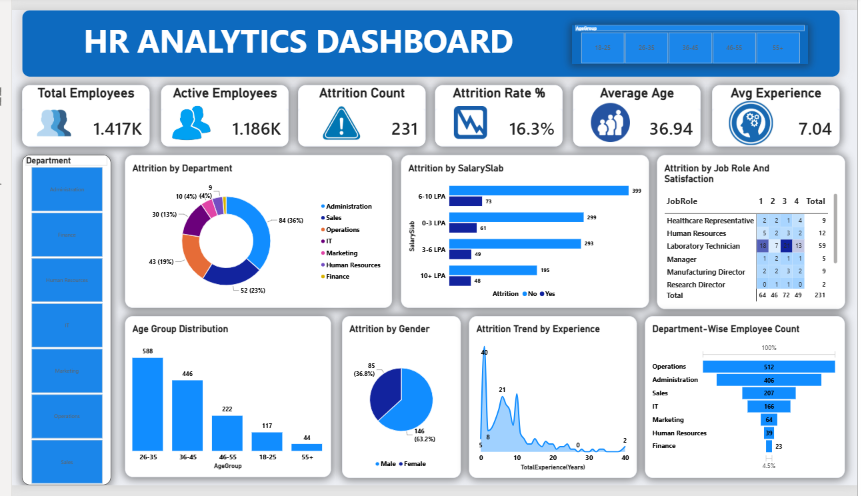

The page's visual inventory and layout, read from the dashboard file:
{"tool":"powerbi","page":{"name":"Page 1","canvas":[1920,1080],"ordinal":0},"visuals":[{"type":"textbox","box":[22.7,0,1857.9,152.2],"z":0},{"type":"cardVisual","title":"Total Employees","fields":{"Data":["CountNonNull(HR_Analytics-4.EmpID)"]},"box":[22.7,170.3,290,140],"z":1000},{"type":"cardVisual","title":"Active Employees","fields":{"Data":["CountNonNull(HR_Analytics-4.EmployeeCount)"]},"box":[338.4,170.3,290,140],"z":2000},{"type":"cardVisual","title":"Attrition Count","fields":{"Data":["Sum(HR_Analytics-4.AttritionCount)"]},"box":[649.6,170.3,290,140],"z":3000},{"type":"cardVisual","title":"Attrition Rate %","fields":{"Data":["HR_Analytics-4.Attrition Rate %"]},"box":[960.8,170.3,290,140],"z":4000},{"type":"cardVisual","title":"Average Age","fields":{"Data":["Avg(HR_Analytics-4.Age)"]},"box":[1274.2,170.3,290,140],"z":5000},{"type":"cardVisual","title":"Avg Experience","fields":{"Data":["Avg(HR_Analytics-4.YearsatCompany)"]},"box":[1589.9,170.3,290,140],"z":6000},{"type":"image","box":[22.7,218,145.4,77.2],"z":7000},{"type":"image","box":[1274.2,211.2,170.3,88.6],"z":8000},{"type":"image","box":[1549,206.7,258.9,99.9],"z":9000},{"type":"image","box":[670,206.7,156.7,99.9],"z":10000},{"type":"image","box":[951.7,218,179.4,75],"z":11000},{"type":"image","box":[293,213.5,231.7,84],"z":12000},{"type":"donutChart","title":"Attrition by Department","fields":{"Category":["HR_Analytics-4.Department"],"Y":["Sum(HR_Analytics-4.AttritionCount)"]},"box":[256.7,329.3,606.4,347.5],"z":13000},{"type":"clusteredBarChart","title":"Attrition by SalarySlab","fields":{"Category":["HR_Analytics-4.SalarySlab"],"Series":["HR_Analytics-4.Attrition"],"Y":["CountNonNull(HR_Analytics-4.EmpID)"]},"box":[883,329.3,563.3,347.5],"z":14000},{"type":"pivotTable","title":"Attrition by Job Role And Satisfaction","fields":{"Columns":["HR_Analytics-4.JobSatisfaction"],"Rows":["HR_Analytics-4.JobRole"],"Values":["Sum(HR_Analytics-4.AttritionCount)"]},"box":[1465,329.3,427,349.8],"z":15000},{"type":"columnChart","title":"Age Group Distribution","fields":{"Category":["HR_Analytics-4.AgeGroup"],"Y":["Sum(HR_Analytics-4.EmployeeCount)"]},"box":[256.7,695,467.9,365.7],"z":15001},{"type":"pieChart","title":"Attrition by Gender","fields":{"Category":["HR_Analytics-4.Gender"],"Y":["Sum(HR_Analytics-4.AttritionCount)"]},"box":[749.5,695,270.3,368],"z":15002},{"type":"areaChart","title":"Attrition Trend by Experience","fields":{"Category":["HR_Analytics-4.TotalExperience(Years)"],"Y2":["Sum(HR_Analytics-4.AttritionCount)"]},"box":[1038,695,381.6,368],"z":15003},{"type":"funnel","title":"Department-Wise Employee Count","fields":{"Category":["HR_Analytics-4.Department"],"Y":["CountNonNull(HR_Analytics-4.EmpID)"]},"box":[1437.7,695,454,368],"z":15004},{"type":"slicer","fields":{"Values":["HR_Analytics-4.Department"]},"box":[22.7,329.3,202.1,749.5],"z":15005},{"type":"slicer","fields":{"Values":["HR_Analytics-4.AgeGroup"]},"box":[1271.9,34.1,536,88.6],"z":15006}]}

Visuals, with their boxes in screenshot pixels (x1, y1, x2, y2), scaled from the page's 1920x1080 canvas onto the 861x496 screenshot:
textbox: detection(10, 0, 843, 70)
"Total Employees" cardVisual: detection(10, 78, 140, 143)
"Active Employees" cardVisual: detection(152, 78, 282, 143)
"Attrition Count" cardVisual: detection(291, 78, 421, 143)
"Attrition Rate %" cardVisual: detection(431, 78, 561, 143)
"Average Age" cardVisual: detection(571, 78, 701, 143)
"Avg Experience" cardVisual: detection(713, 78, 843, 143)
image: detection(10, 100, 75, 136)
image: detection(571, 97, 648, 138)
image: detection(695, 95, 811, 141)
image: detection(300, 95, 371, 141)
image: detection(427, 100, 507, 135)
image: detection(131, 98, 235, 137)
"Attrition by Department" donutChart: detection(115, 151, 387, 311)
"Attrition by SalarySlab" clusteredBarChart: detection(396, 151, 649, 311)
"Attrition by Job Role And Satisfaction" pivotTable: detection(657, 151, 848, 312)
"Age Group Distribution" columnChart: detection(115, 319, 325, 487)
"Attrition by Gender" pieChart: detection(336, 319, 457, 488)
"Attrition Trend by Experience" areaChart: detection(465, 319, 637, 488)
"Department-Wise Employee Count" funnel: detection(645, 319, 848, 488)
slicer - HR_Analytics-4.Department: detection(10, 151, 101, 495)
slicer - HR_Analytics-4.AgeGroup: detection(570, 16, 811, 56)
